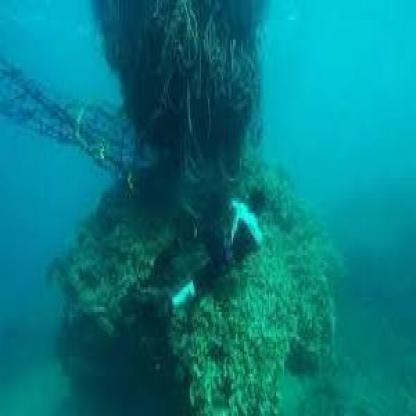net: (0, 51, 178, 200)
